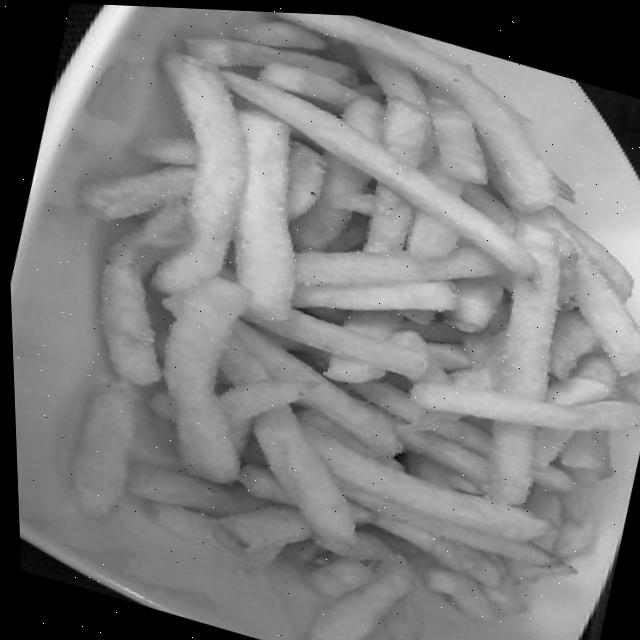炸货点心: (33, 1, 640, 640)
